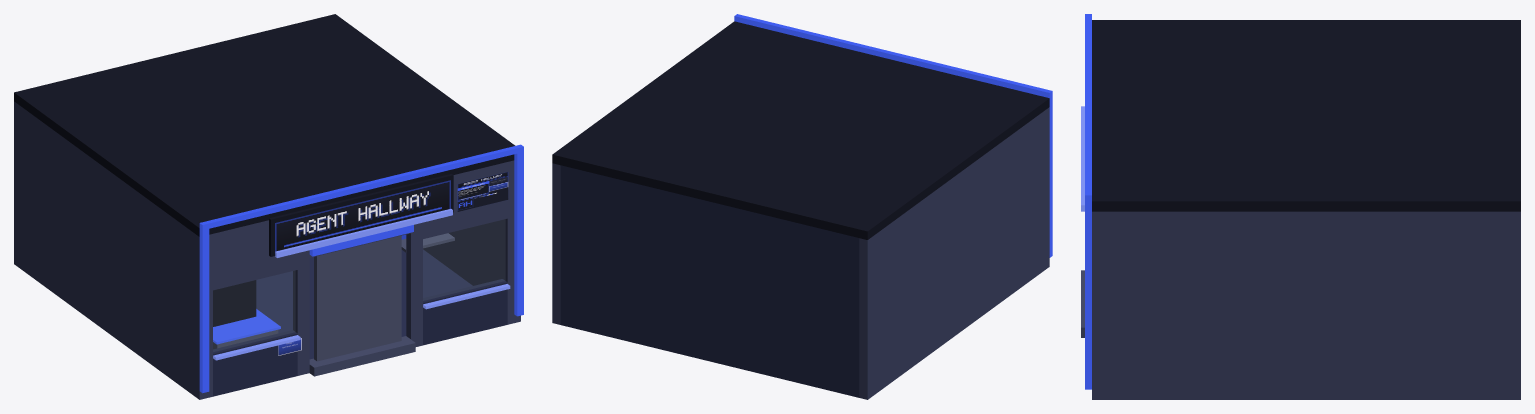
File: plot.glb
3 views of the same model, side by side, from view 1: azimuth 30°, elevation 25°; view 2: azimuth 150°, elevation 25°; view 3: azimuth 270°, elevation 25° (orthographic). The views are drawn at different scales.
Parts seen in each view (by area): view 1: facade, neon, sign_1, door_panel_L, door_panel_R, pic_1, lintel; view 2: facade, neon; view 3: facade, neon.
Boxes of the visible parts, x1=… form: facade: x1=14, y1=14, x2=520, y2=399; neon: x1=199, y1=144, x2=523, y2=393; sign_1: x1=275, y1=180, x2=450, y2=252; door_panel_L: x1=314, y1=246, x2=359, y2=361; door_panel_R: x1=359, y1=235, x2=401, y2=350; pic_1: x1=457, y1=172, x2=508, y2=211; lintel: x1=309, y1=225, x2=413, y2=256; facade: x1=552, y1=21, x2=1049, y2=399; neon: x1=734, y1=14, x2=1052, y2=257; facade: x1=1081, y1=20, x2=1520, y2=399; neon: x1=1081, y1=14, x2=1091, y2=389.
Bounding box in the file's own units: 9.5 × 5 × 9.74.
Materials: 4 (3 with a texture image).
